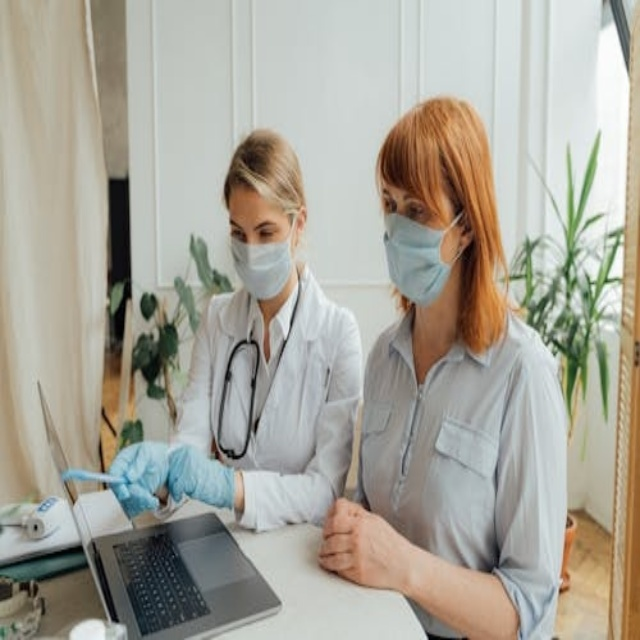Guantes: (106, 440, 175, 514), (164, 445, 235, 513)
Mascara: (383, 207, 464, 304), (232, 218, 297, 300)
Sin_gafas: (381, 181, 443, 231), (225, 204, 288, 242)
Sin_guantes: (313, 497, 401, 593)
